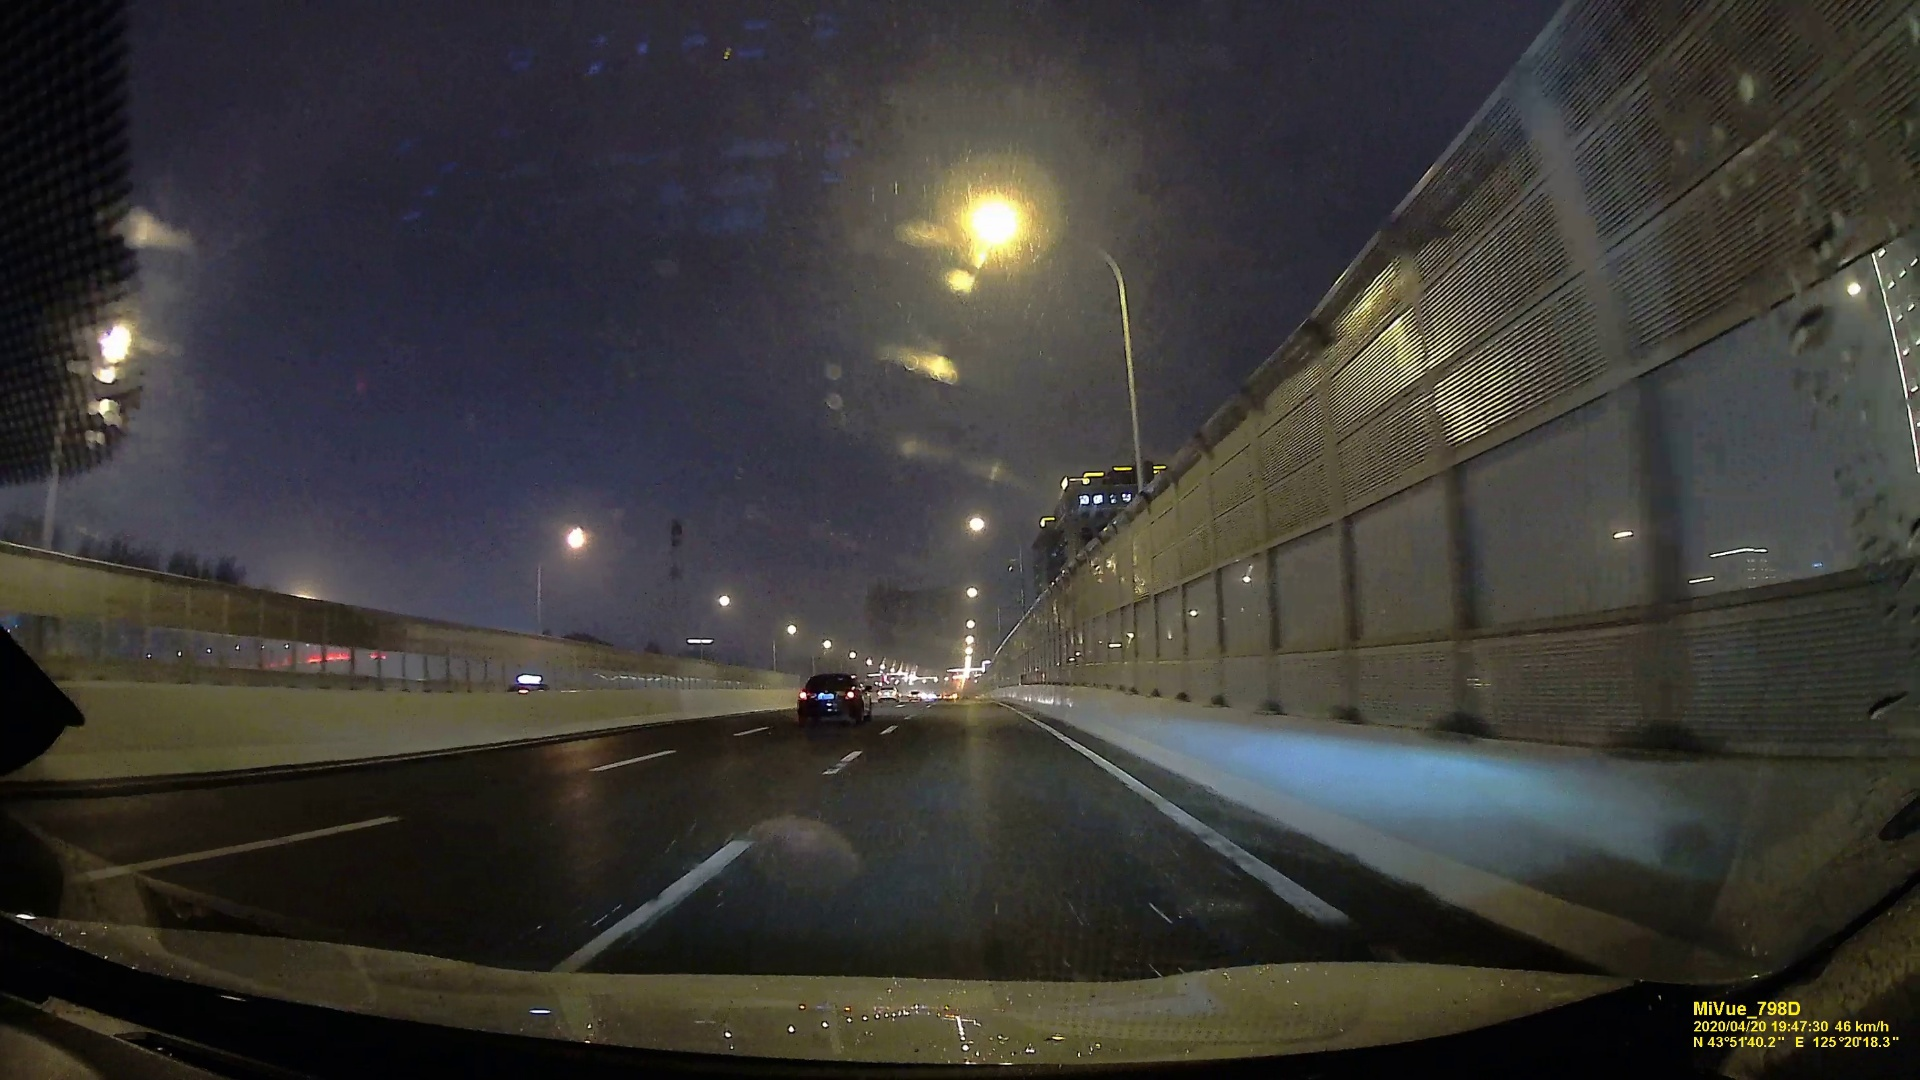vehicle: (796, 673, 874, 727)
